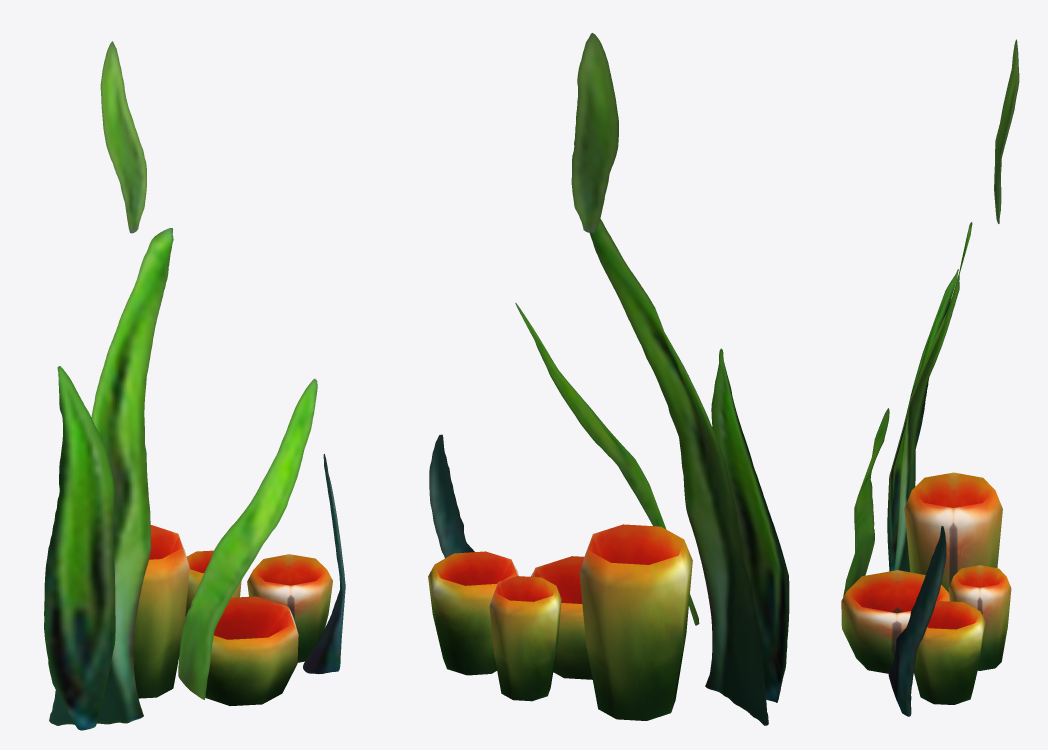
File: Sea_haicao04.FBX
The picture shows the model from 3 angles, left to right: view 1: azimuth 30°, elevation 25°; view 2: azimuth 150°, elevation 25°; view 3: azimuth 270°, elevation 25°; orthographic projection. The views are drawn at different scales.
Parts seen in each view (by area): view 1: haicao04; view 2: haicao04; view 3: haicao04.
Part boxes in pixels (x1,y1,x2,y2): haicao04: (44, 41, 345, 730); haicao04: (428, 33, 789, 725); haicao04: (841, 39, 1019, 716).
Bounding box in the file's own units: 66.22 × 120 × 36.06.
